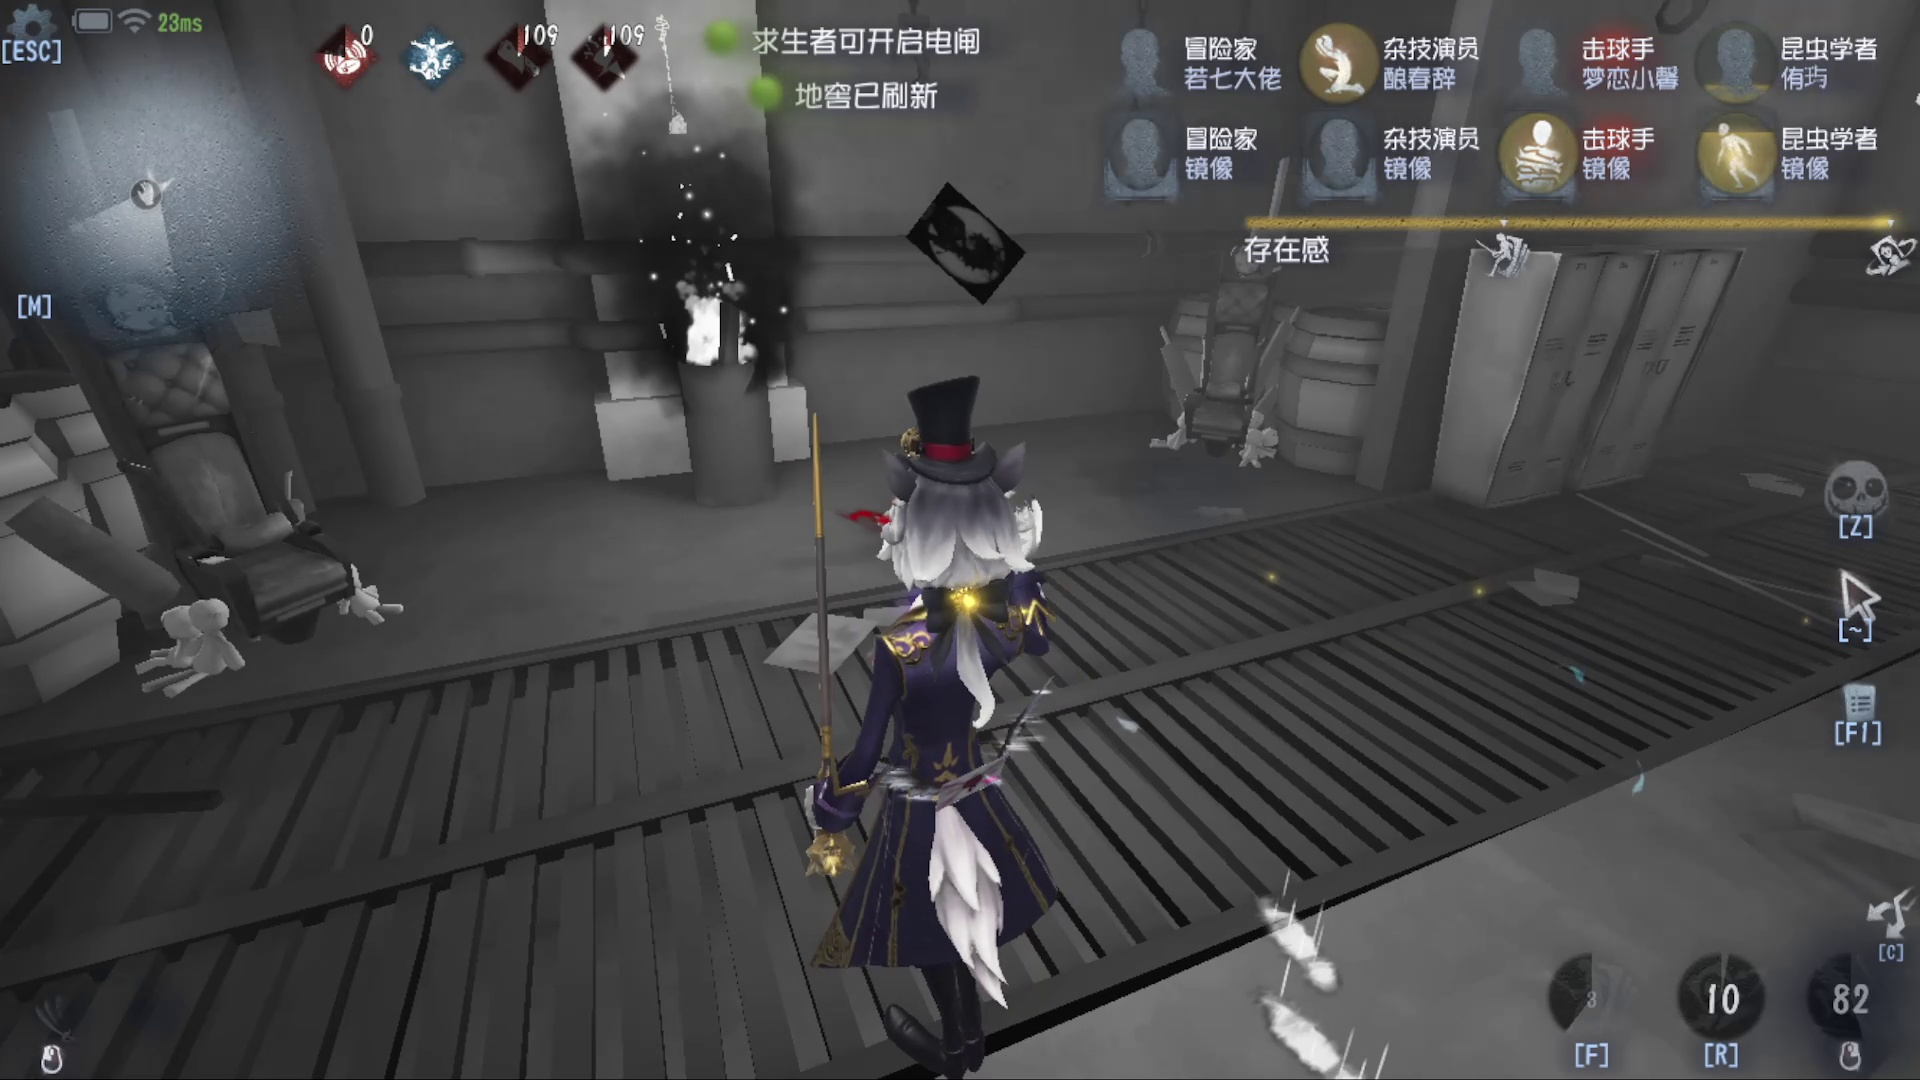狂欢之椅: (1159, 223, 1319, 485)
